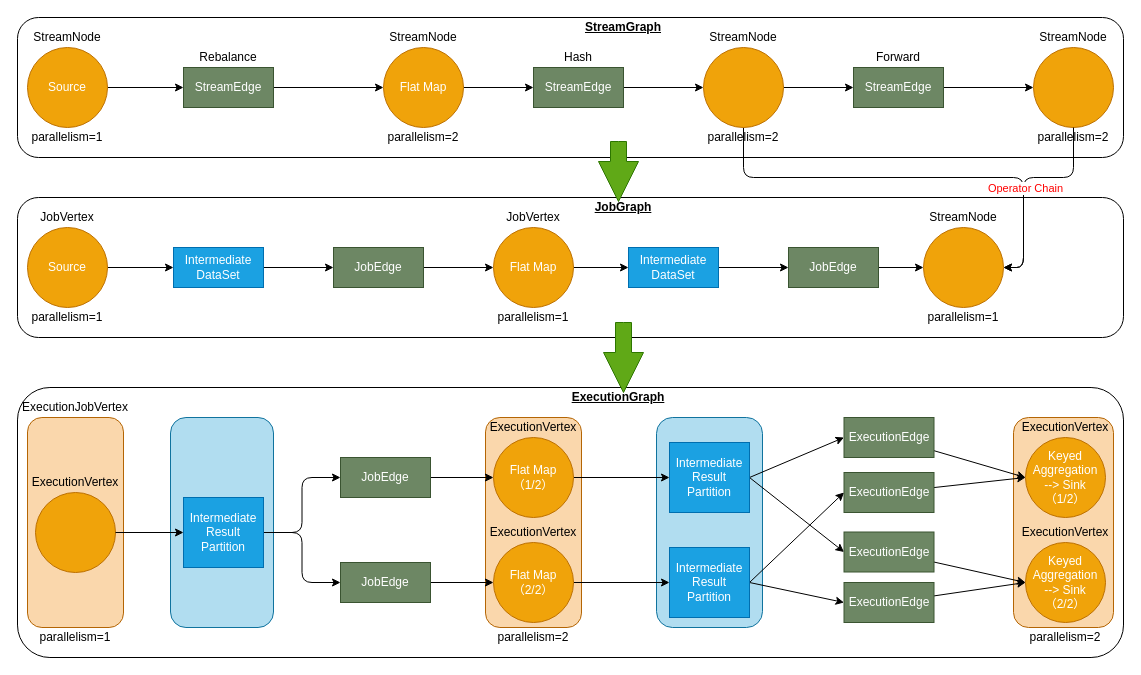
The diagram is 1141 pixels wide and 675 high, and some of its shapes have lost their labels. The shapes that lost their labels are listed below. From the top down, each one's box as (x1, y1, x2, y2) in pixels, then its label:
(702, 46, 784, 128): Keyed Aggregation
(1032, 46, 1114, 128): Sink
(922, 226, 1004, 308): Keyed Aggregation --> Sink
(34, 492, 116, 572): Source （1/1）
